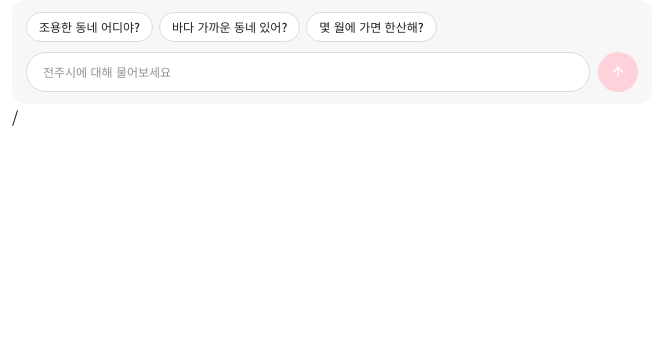
ChatThread › 시군구 상세(dongHref): 시군구 답·동 답 모두 동마다 "자세히 →" 링크
Click the button "조용한 동네 어디야?" at (90, 27), box x1=26 y1=12 x2=153 y2=42
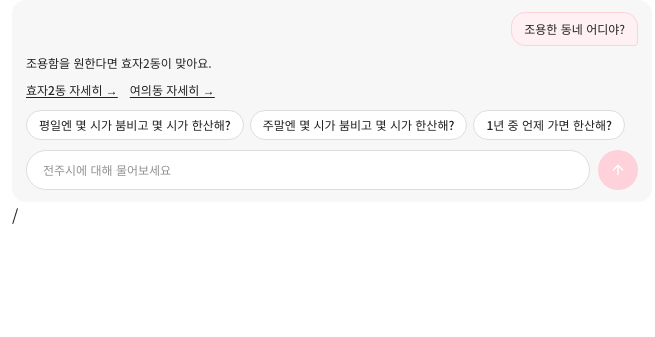
Check: the link "여의동 자세히 →" is shown, box x1=130 y1=81 x2=215 y2=98
Type "효자2동이랑 서신동 비교해 줘" into the field named "전주시에 물어보기" at (308, 170), box x1=43 y1=162 x2=573 y2=178
Then press Enter
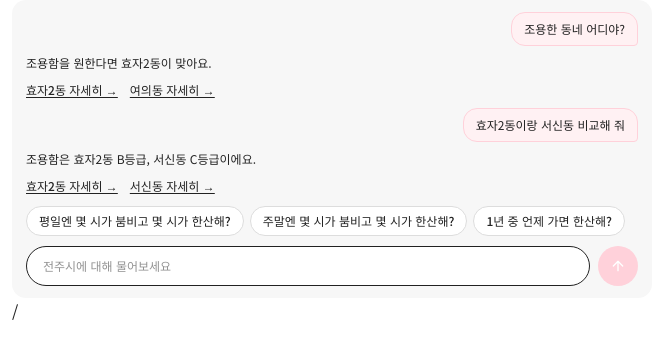
Check: the number of links "효자2동 자세히 →" is 2, box x1=26 y1=81 x2=118 y2=98; x1=26 y1=177 x2=118 y2=194
